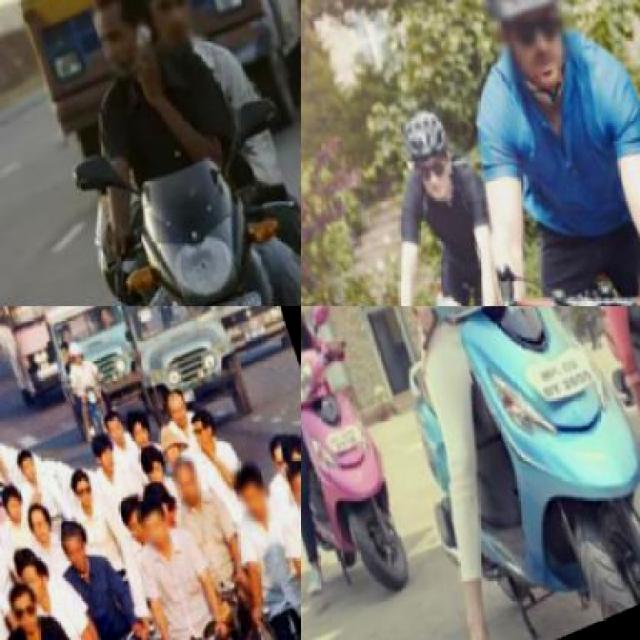With Helmet: (452, 0, 595, 92), (394, 101, 474, 216), (62, 334, 96, 374)
Without Helmet: (77, 0, 177, 92), (117, 0, 220, 68), (228, 458, 286, 538), (0, 573, 58, 638), (133, 497, 184, 566), (170, 456, 218, 519), (283, 462, 299, 529)
